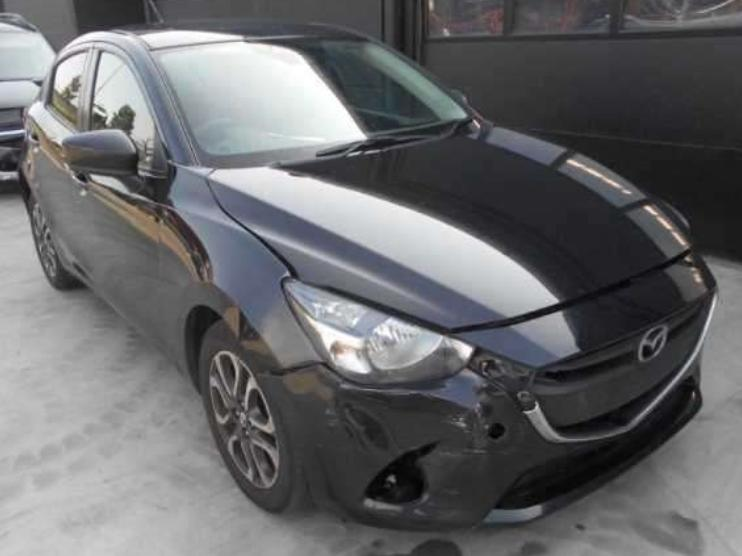Broken part: (252, 343, 703, 530), (319, 244, 695, 336), (212, 189, 302, 281)
Corrosion: (283, 370, 333, 402)
Dent: (337, 388, 488, 490)
Missing part: (367, 445, 437, 503), (490, 424, 503, 438)
Scratch: (407, 489, 434, 521), (471, 399, 487, 446), (362, 500, 404, 513), (440, 414, 470, 432), (437, 447, 490, 457)
